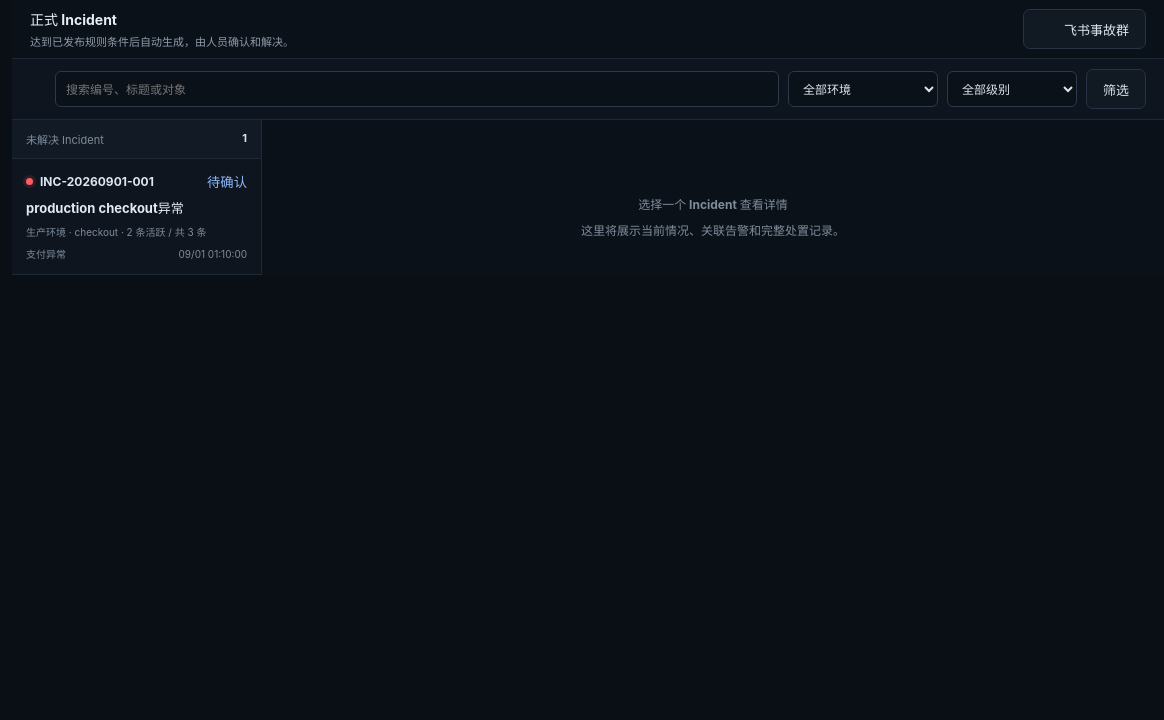
Test: 点击列表后展示真实三栏详情
Click the button with test id "incident-row". click: [136, 217]
box: [12,159,261,275]
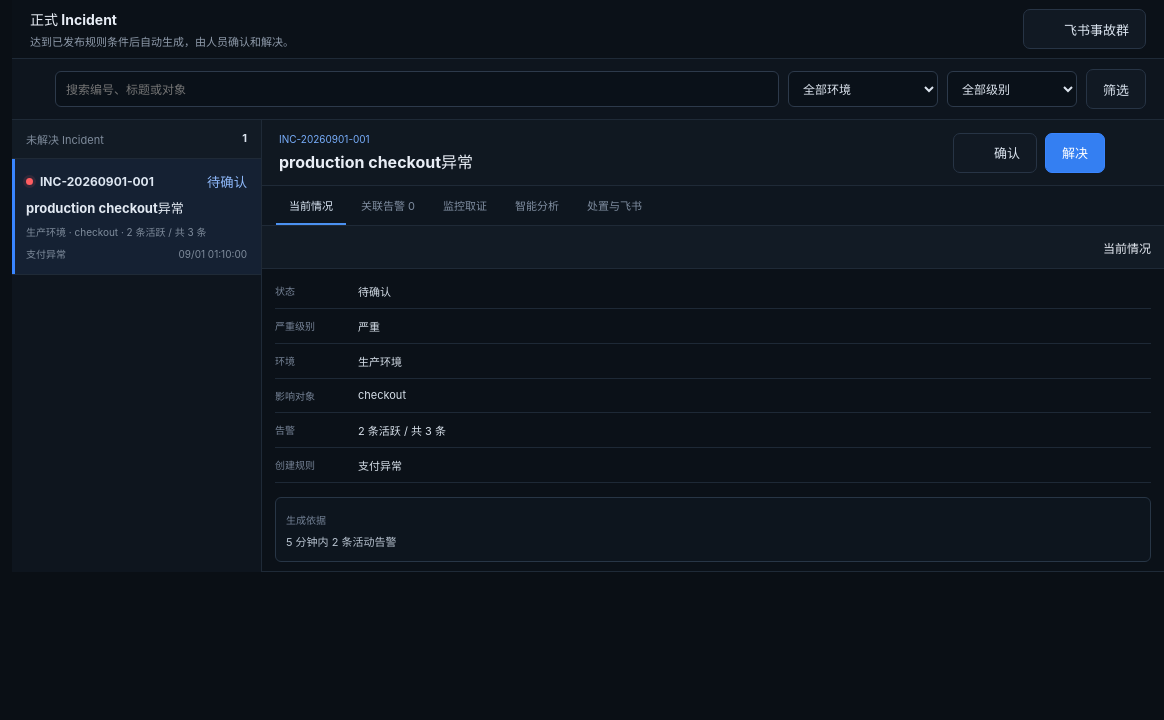
Check: the element with test id "incident-detail" shows "当前情况", box [276,186,346,225]
Check: the element with test id "incident-detail" shows "关联告警", box [348,186,428,225]
Check: the element with test id "incident-detail" shows "处置与飞书", box [574,186,655,225]
